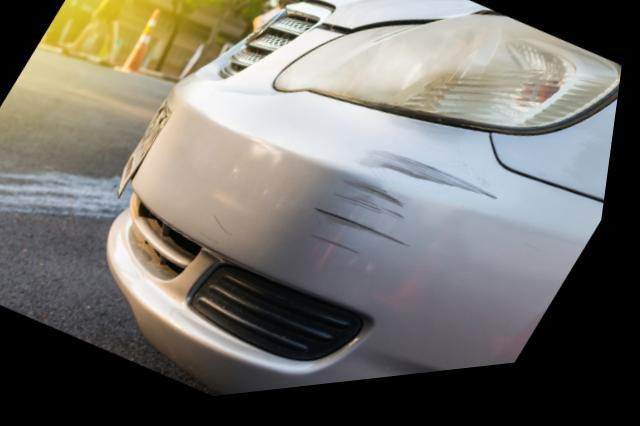rub: (315, 156, 508, 270)
